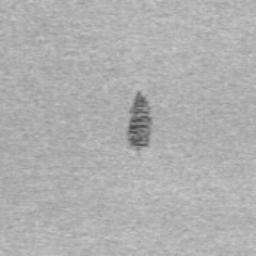Secondary rust skin: (127, 92, 153, 152)
